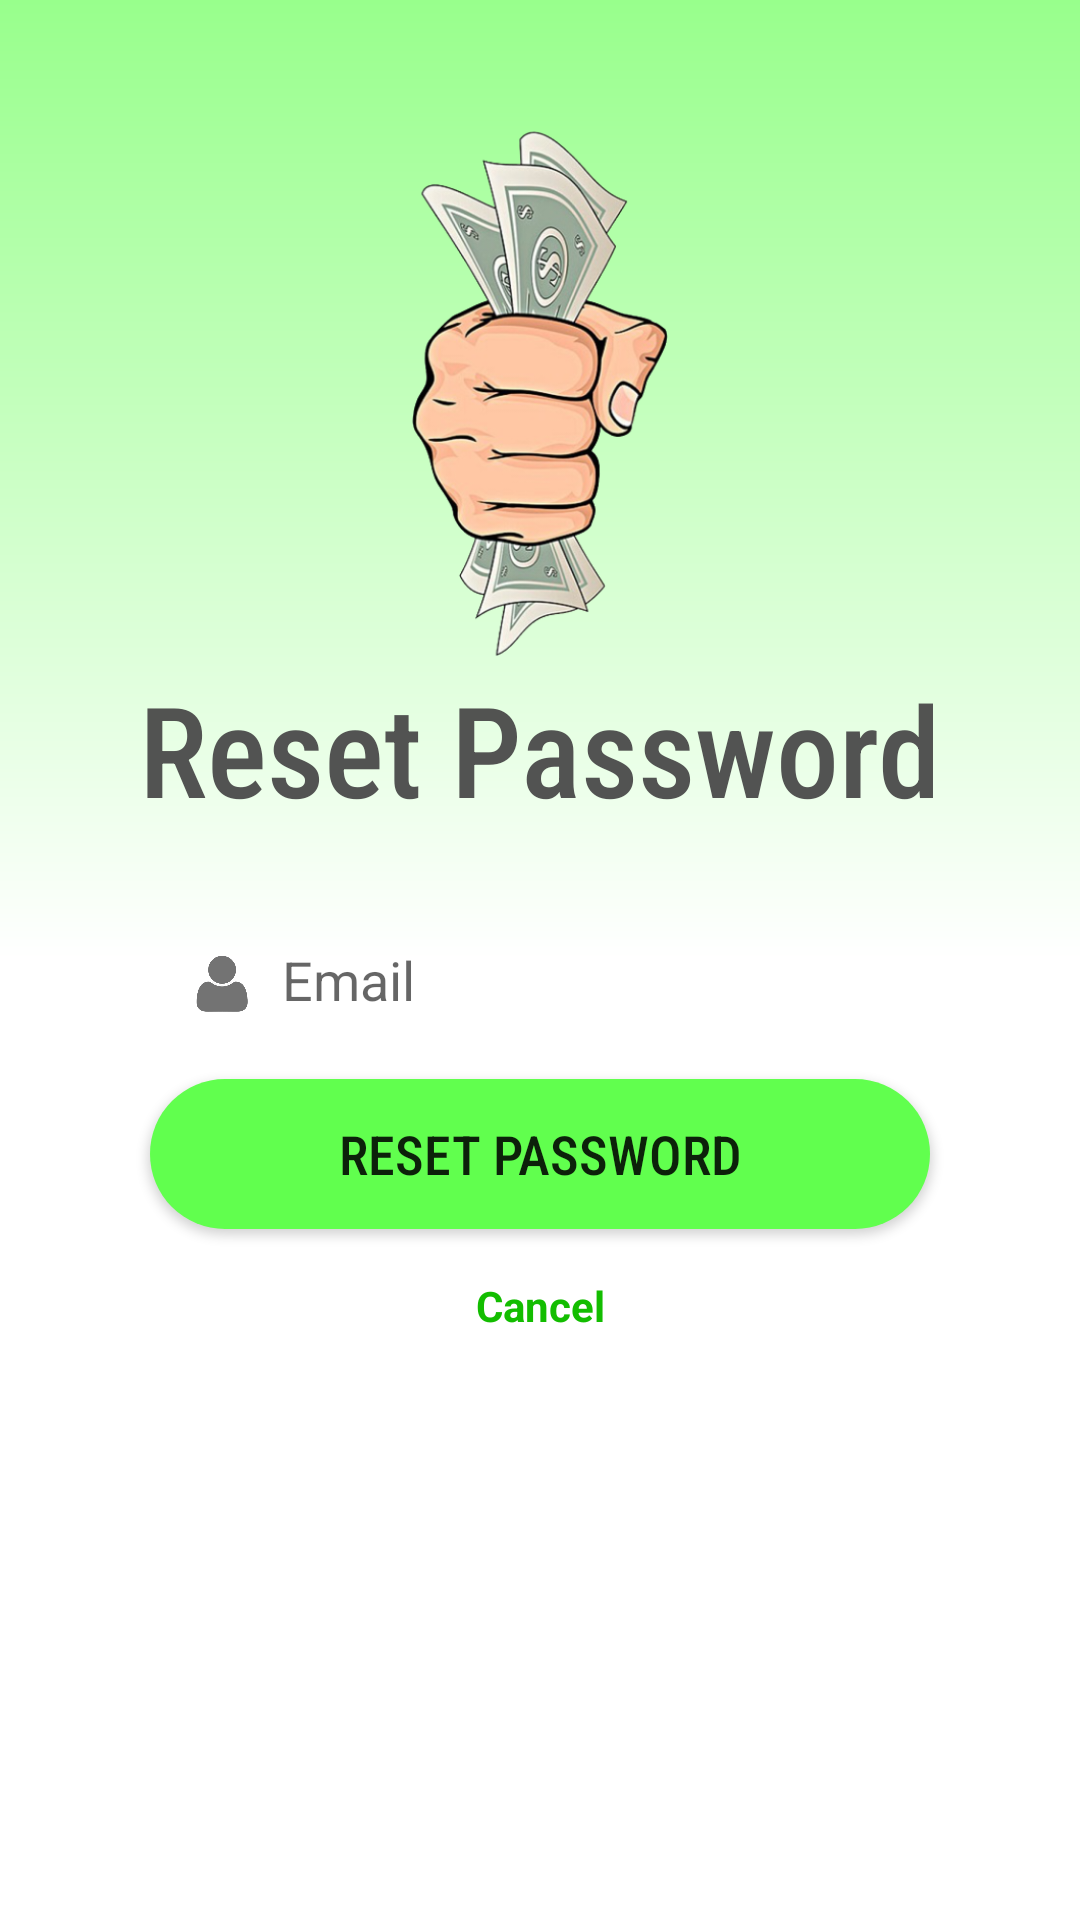

Icon click points for this 1080x1920 phone screenshot, format (x=x, y=y):
user: (x=222, y=984)
